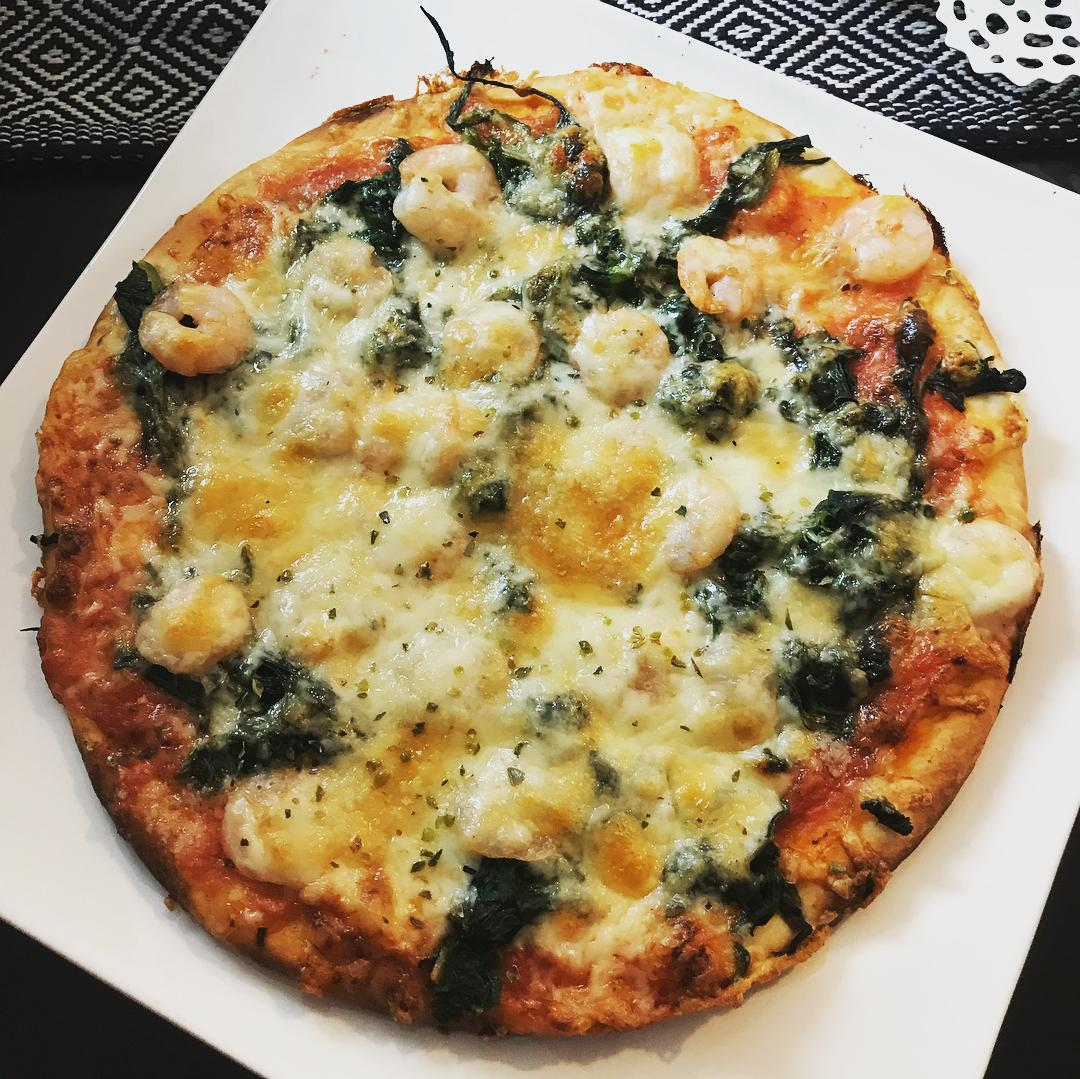Arugula: (513, 127, 676, 298), (191, 669, 329, 792), (429, 853, 532, 1008), (743, 507, 896, 610), (799, 337, 938, 438), (117, 283, 188, 458), (675, 137, 788, 233), (691, 831, 797, 931), (657, 311, 744, 426), (341, 175, 414, 281), (791, 649, 874, 725)
Cheese: (349, 673, 760, 841), (253, 563, 717, 660), (545, 389, 690, 572), (233, 381, 384, 556), (399, 381, 533, 561), (717, 429, 824, 500)
Pizza: (39, 61, 1042, 1029)
